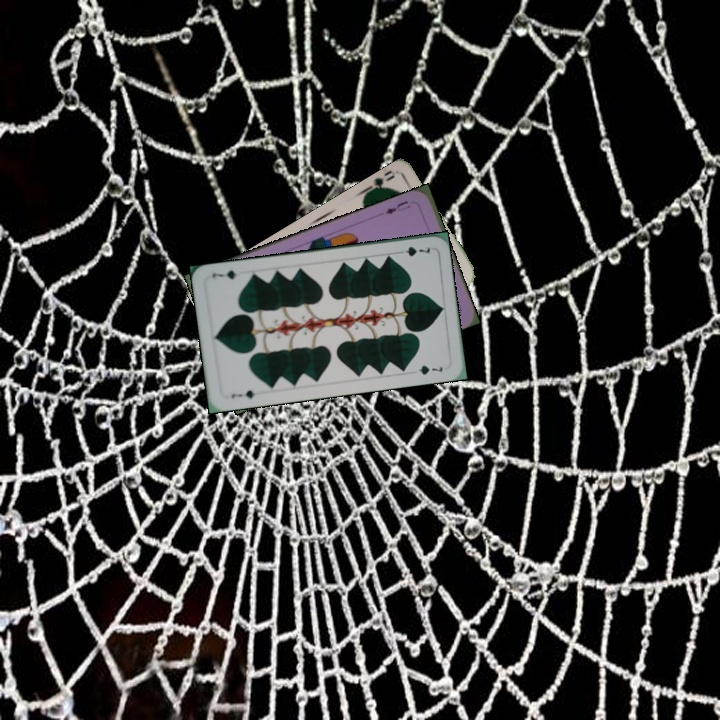EU: (381, 197, 413, 217)
G7: (393, 242, 434, 259), (227, 386, 257, 401)
GO: (361, 171, 397, 195)
